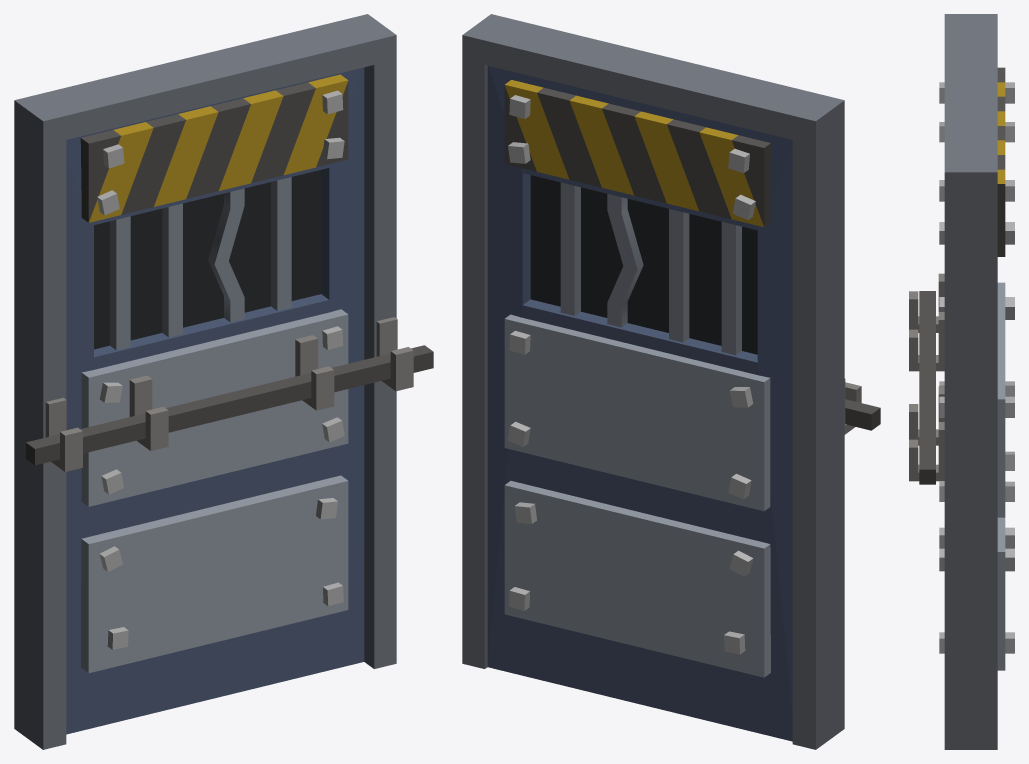
Rendered from AI_Env_Wall_Safehouse_Door.fbx.
3 views of the same model, side by side, from view 1: azimuth 30°, elevation 25°; view 2: azimuth 150°, elevation 25°; view 3: azimuth 270°, elevation 25° (orthographic). The views are drawn at different scales.
Visible parts, largest first — view 1: AI_Env_Wall_Safehouse_Door_Swing, AI_Env_Wall_Safehouse_Door, AI_Env_Wall_Safehouse_Door_Pole; view 2: AI_Env_Wall_Safehouse_Door_Swing, AI_Env_Wall_Safehouse_Door, AI_Env_Wall_Safehouse_Door_Pole; view 3: AI_Env_Wall_Safehouse_Door, AI_Env_Wall_Safehouse_Door_Swing, AI_Env_Wall_Safehouse_Door_Pole.
Part boxes in pixels (bbox=[...]): AI_Env_Wall_Safehouse_Door_Swing: bbox=[66, 67, 364, 734]; AI_Env_Wall_Safehouse_Door: bbox=[14, 14, 413, 749]; AI_Env_Wall_Safehouse_Door_Pole: bbox=[26, 345, 433, 465]; AI_Env_Wall_Safehouse_Door_Swing: bbox=[487, 65, 792, 741]; AI_Env_Wall_Safehouse_Door: bbox=[462, 14, 861, 749]; AI_Env_Wall_Safehouse_Door_Pole: bbox=[845, 399, 880, 430]; AI_Env_Wall_Safehouse_Door: bbox=[909, 14, 997, 749]; AI_Env_Wall_Safehouse_Door_Swing: bbox=[909, 67, 1014, 670]; AI_Env_Wall_Safehouse_Door_Pole: bbox=[919, 291, 935, 484].
Size of the model in its own units: 2.59 by 3.9 by 0.6472.
